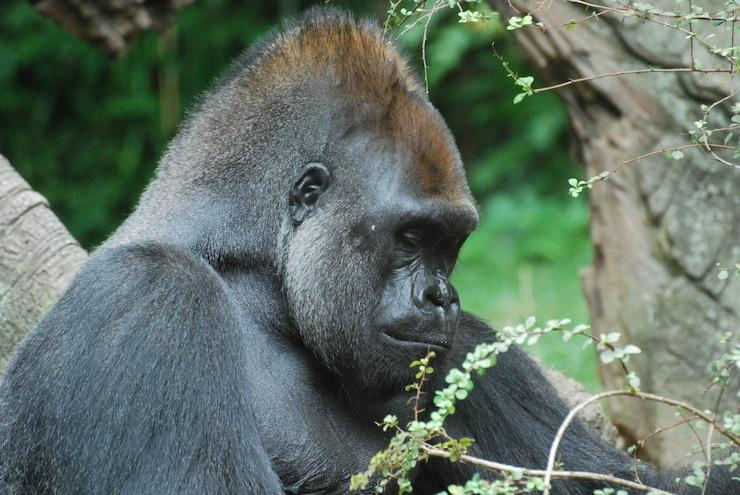gorille_Autres: (34, 0, 585, 495)
